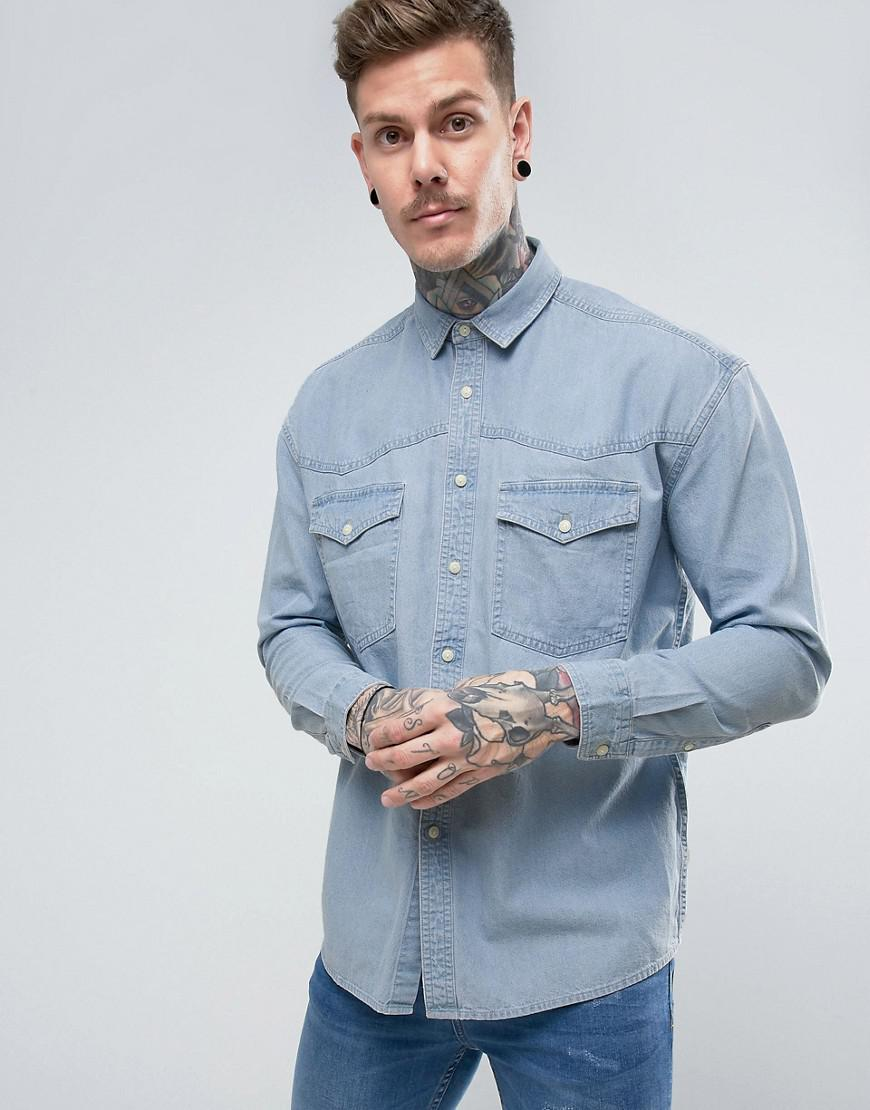teeshirt: (249, 269, 842, 1024)
